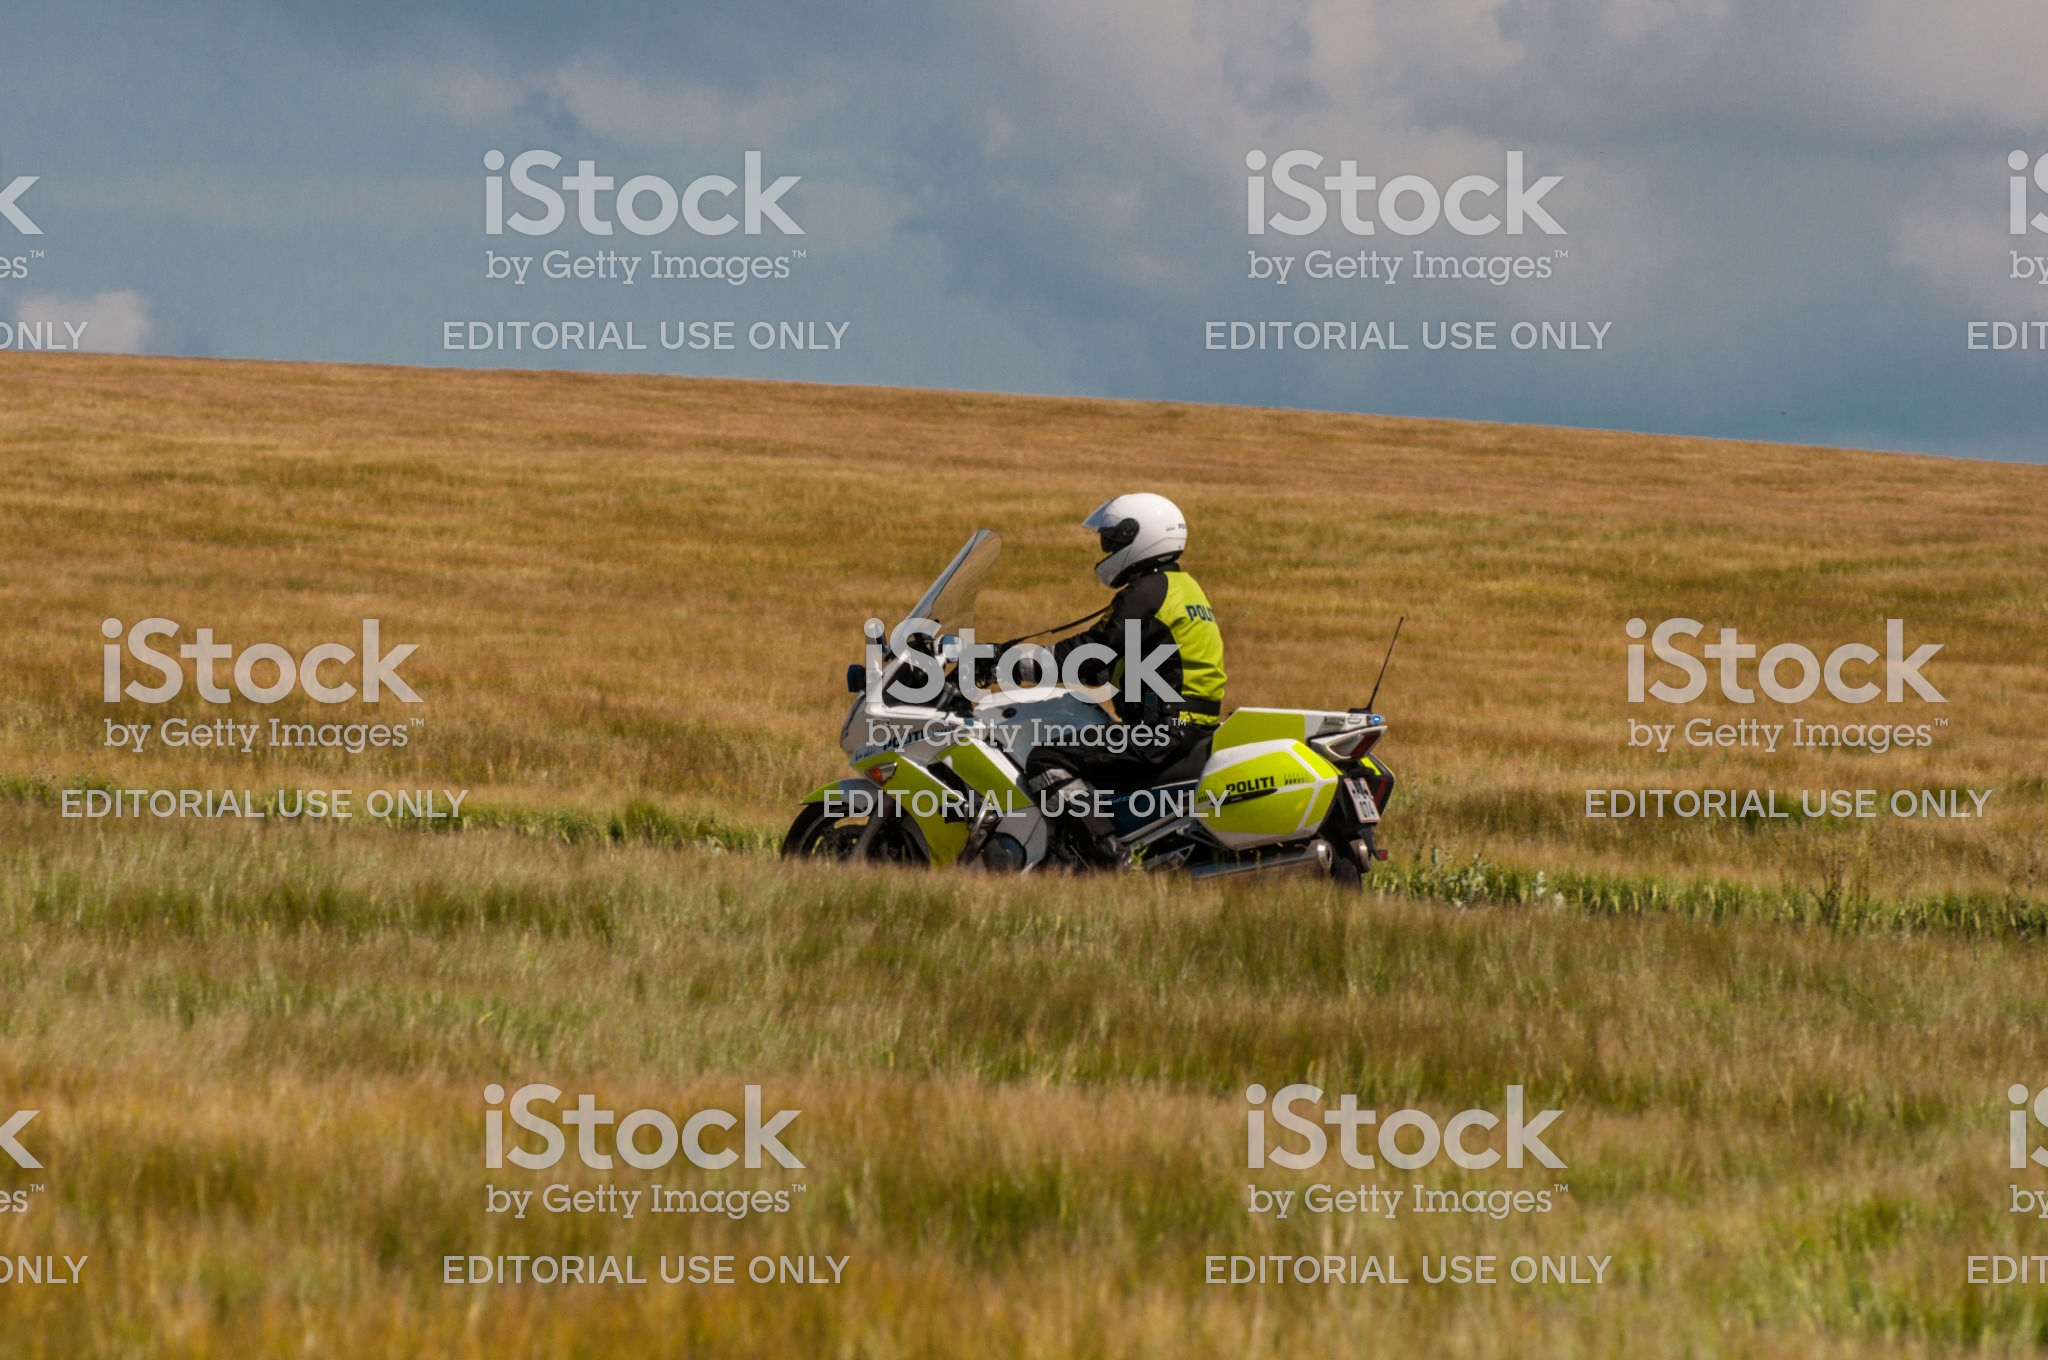helmet: (1098, 486, 1188, 572)
